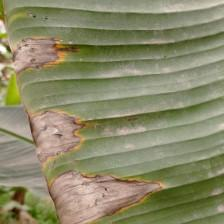cordana: (5, 0, 224, 224)
